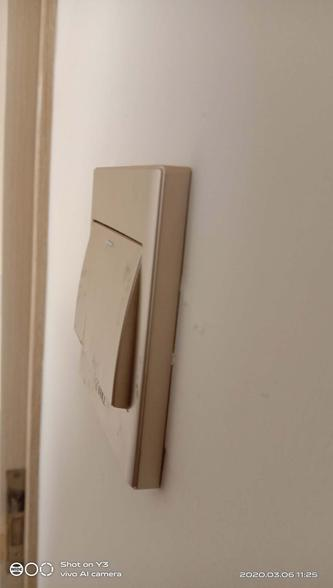switch: (79, 217, 139, 406)
